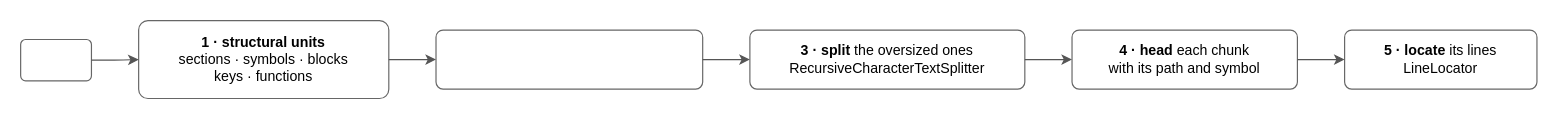
This 1558x119 diagram has some shape labels left out. Each missing label, with the centre of its shape:
"2 · merge the small ones (same parent, up to the size)" goes at [569,59].
"file" goes at [55,59].
